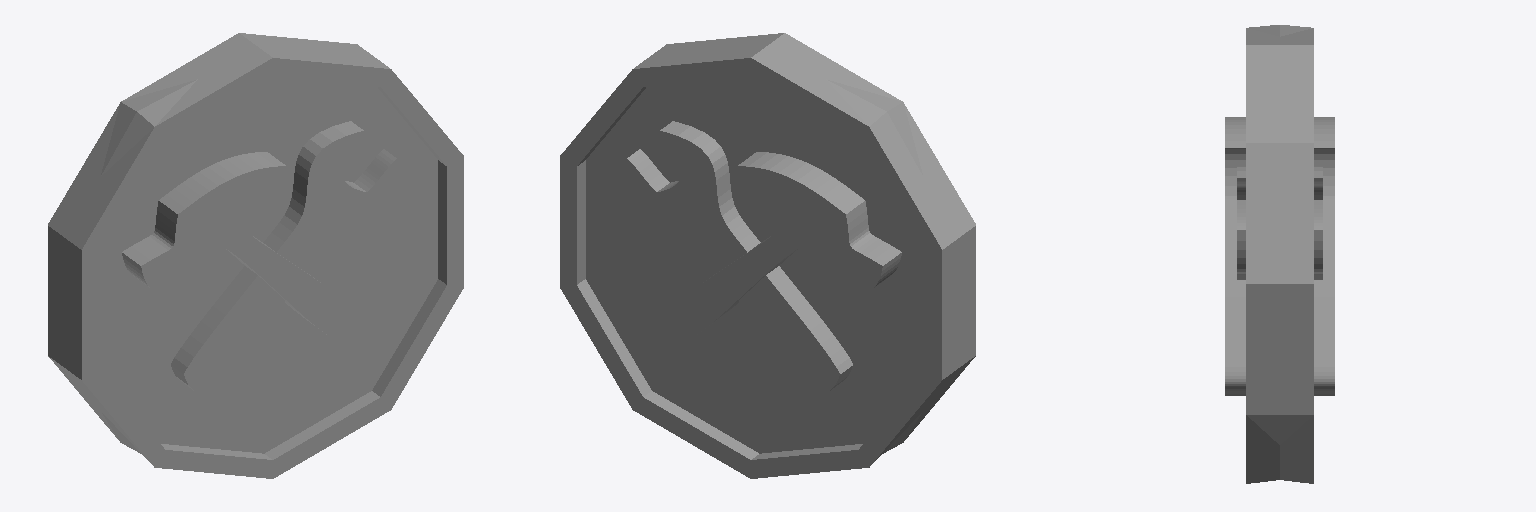
Rendered from kovanec-final.obj.
The picture shows the model from 3 angles: view 1: azimuth 30°, elevation 25°; view 2: azimuth 150°, elevation 25°; view 3: azimuth 270°, elevation 25°; orthographic projection.
Visible parts, largest first — view 1: Circle; view 2: Circle; view 3: Circle.
Part boxes in pixels (bbox=[...]): Circle: bbox=[48, 33, 463, 478]; Circle: bbox=[560, 33, 975, 478]; Circle: bbox=[1225, 25, 1334, 483].
Size of the model in its own units: 0.9108 by 0.9577 by 0.2281.